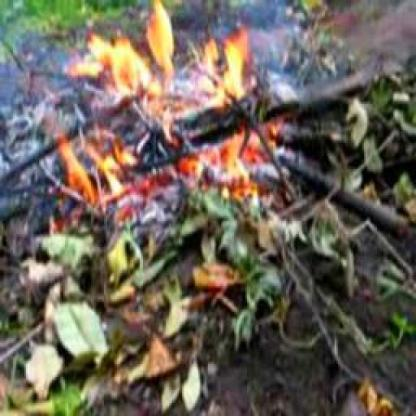fire: (43, 10, 280, 205)
